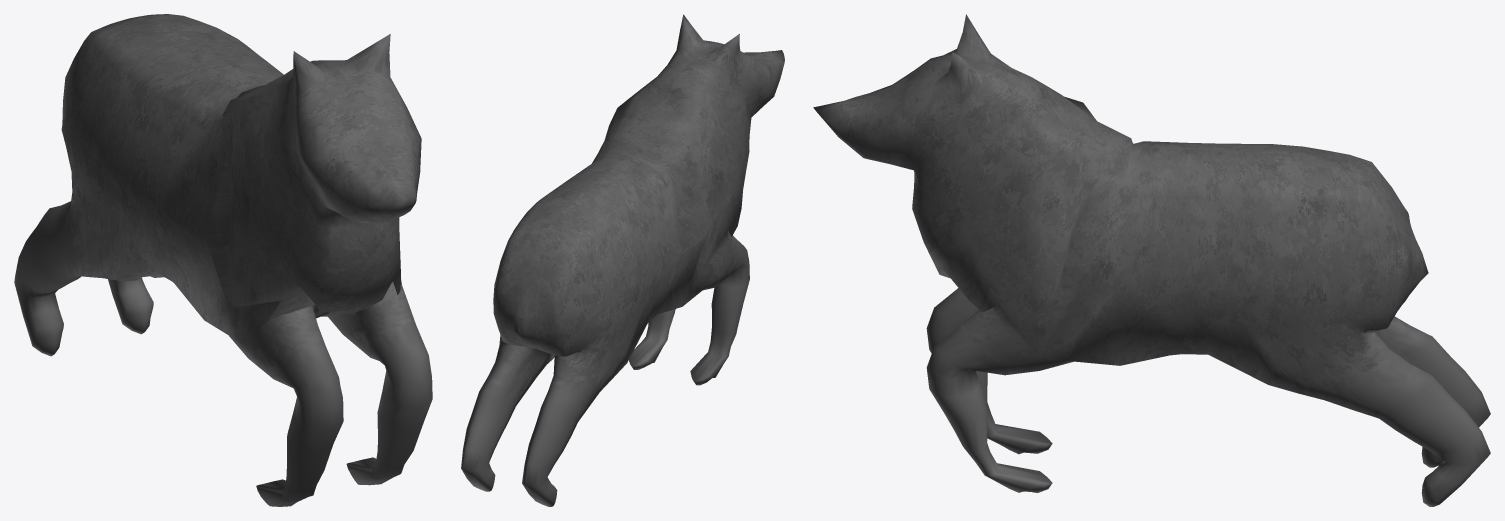
The model's file is piesblend_000010.obj.
3 renders of one model, left to right at view 1: azimuth 30°, elevation 25°; view 2: azimuth 150°, elevation 25°; view 3: azimuth 270°, elevation 25°, orthographic. The views are drawn at different scales.
Visible parts, largest first — view 1: Cube; view 2: Cube; view 3: Cube.
Part boxes in pixels (x1=…): Cube: x1=14, y1=14, x2=432, y2=506; Cube: x1=461, y1=14, x2=784, y2=506; Cube: x1=813, y1=14, x2=1490, y2=506.
Bounding box in the file's own units: 2.55 × 6.65 × 9.13.
